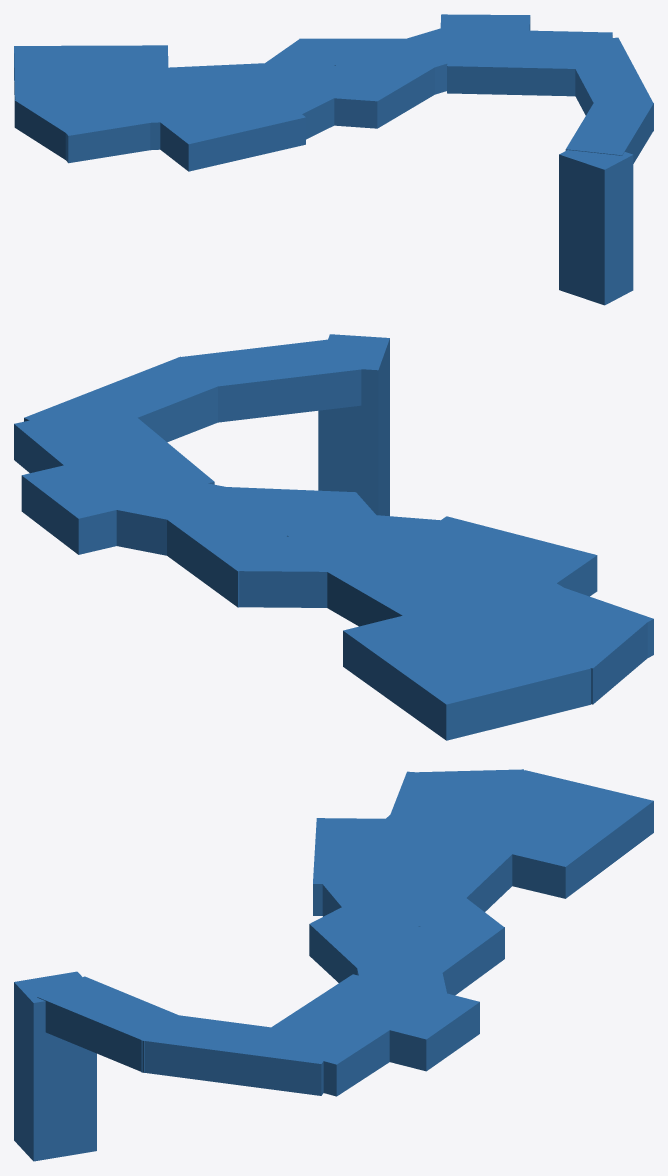
Rendered from p_Puddle Far.fbx.
3 renders of one model, top to bottom at view 1: azimuth 30°, elevation 25°; view 2: azimuth 150°, elevation 25°; view 3: azimuth 270°, elevation 25°, orthographic. The views are drawn at different scales.
Visible parts, largest first — view 1: Waterfall, Water__58_, Water__39_, Water__63_, Water__54_, Water__41_, Water__55_, Water__56_, Water__62_, Water__40_, Water__59_, Water__43_ (+4 smaller); view 2: Water__41_, Water__39_, Water__56_, Water__55_, Water__59_, Waterfall, Water__40_, Water__58_, Water__60_, Water__44_, Water__43_, Water__54_ (+4 smaller); view 3: Water__39_, Water__41_, Waterfall, Water__55_, Water__58_, Water__56_, Water__59_, Water__40_, Water__63_, Water__60_, Water__43_, Water__61_ (+4 smaller).
Boxes of the visible parts, x1,y1,x2,y2 form: Waterfall: [559, 150, 633, 305]; Water__58_: [447, 29, 612, 96]; Water__39_: [109, 62, 286, 150]; Water__63_: [160, 93, 305, 171]; Water__54_: [40, 88, 190, 163]; Water__41_: [14, 45, 168, 99]; Water__55_: [561, 37, 653, 131]; Water__56_: [565, 97, 653, 163]; Water__62_: [345, 55, 434, 128]; Water__40_: [14, 78, 116, 159]; Water__59_: [335, 26, 488, 94]; Water__43_: [299, 38, 416, 59]; Water__41_: [343, 606, 590, 740]; Water__39_: [323, 525, 584, 642]; Water__56_: [178, 338, 361, 422]; Water__55_: [24, 356, 232, 442]; Water__59_: [106, 471, 319, 555]; Waterfall: [318, 334, 389, 516]; Water__40_: [480, 595, 651, 704]; Water__58_: [14, 402, 214, 485]; Water__60_: [21, 458, 129, 554]; Water__44_: [238, 536, 357, 607]; Water__43_: [167, 501, 293, 607]; Water__54_: [450, 573, 653, 657]; Water__39_: [338, 802, 539, 911]; Water__41_: [487, 770, 653, 898]; Waterfall: [14, 971, 96, 1161]; Water__55_: [141, 1013, 340, 1095]; Water__58_: [254, 974, 438, 1096]; Water__56_: [37, 976, 178, 1072]; Water__59_: [353, 926, 447, 1001]; Water__40_: [407, 769, 530, 819]; Water__63_: [313, 818, 406, 915]; Water__60_: [389, 993, 479, 1071]; Water__43_: [407, 915, 504, 995]; Water__61_: [321, 866, 455, 920].
Size of the model in its own units: 991 by 249 by 908.
